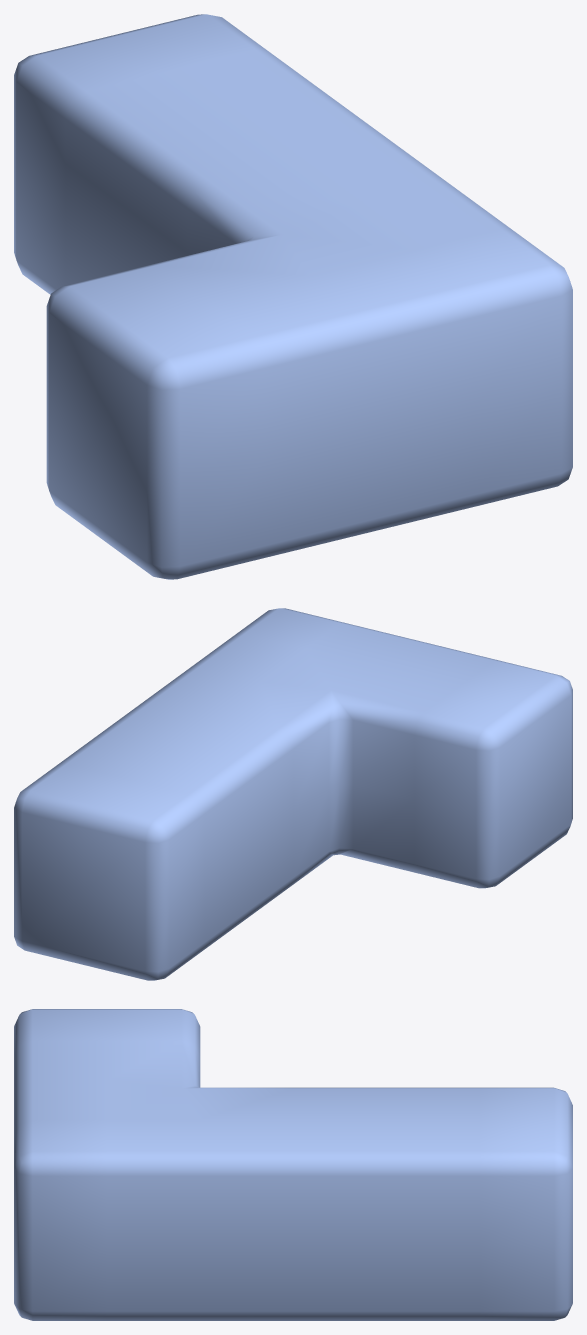
File: tetrisJ-glass.obj
The picture shows the model from 3 angles, top to bottom: view 1: azimuth 30°, elevation 25°; view 2: azimuth 150°, elevation 25°; view 3: azimuth 270°, elevation 25°; orthographic projection. The views are drawn at different scales.
Parts seen in each view (by area): view 1: Cube; view 2: Cube; view 3: Cube.
Part boxes in pixels (left/top/right/bottom): Cube: left=14, top=14, right=572, bottom=579; Cube: left=14, top=608, right=572, bottom=980; Cube: left=14, top=1009, right=572, bottom=1320.
Bounding box in the file's own units: 0.3 × 0.15 × 0.45.
